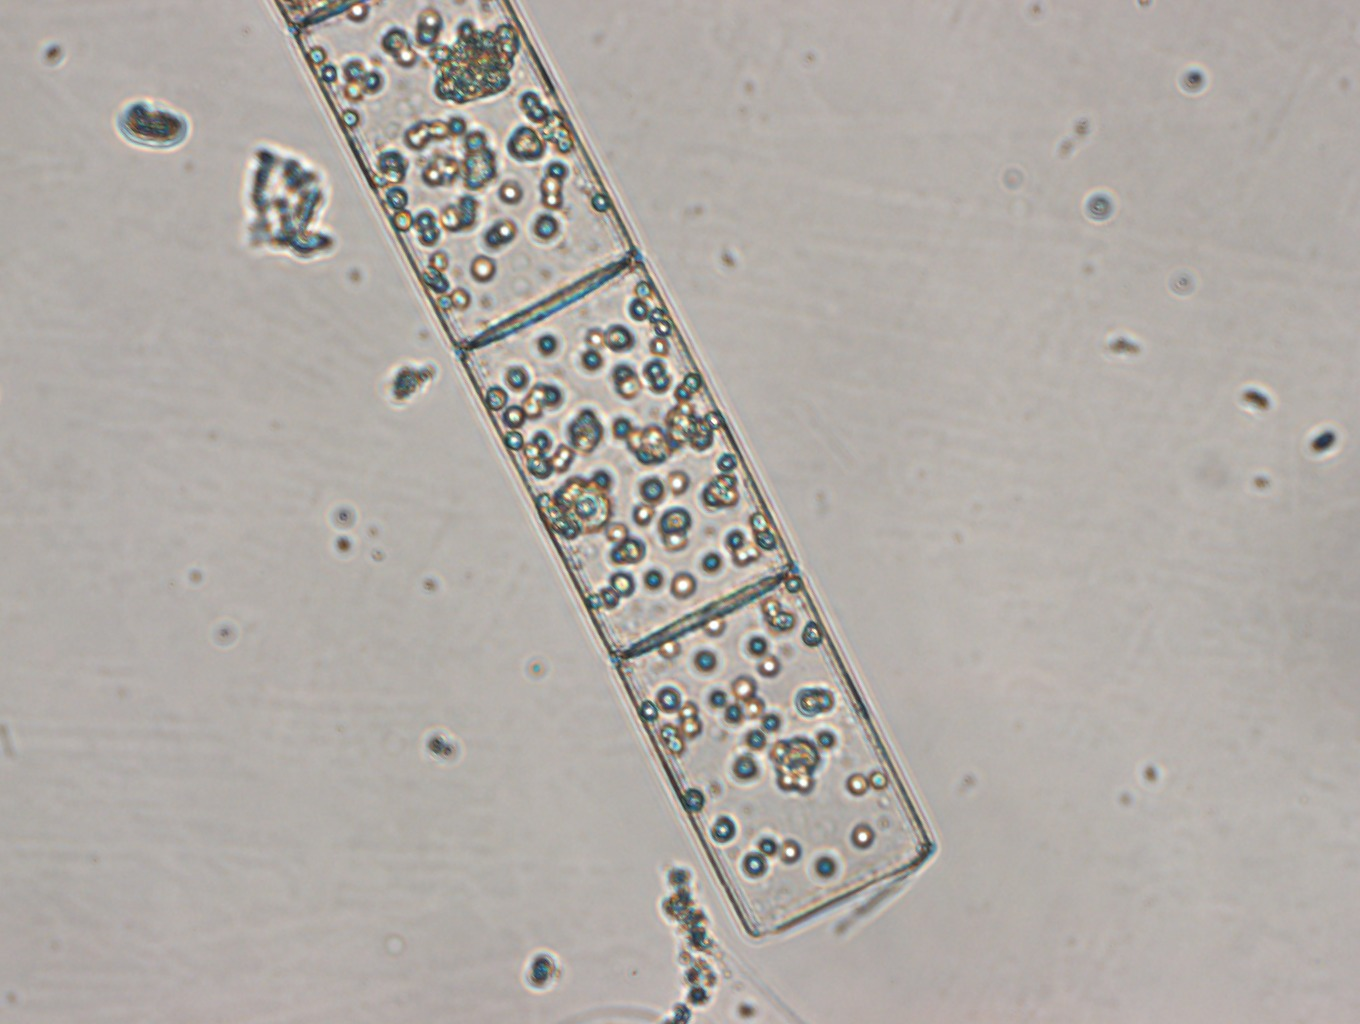guinardia flaccida: (290, 1, 940, 938)
